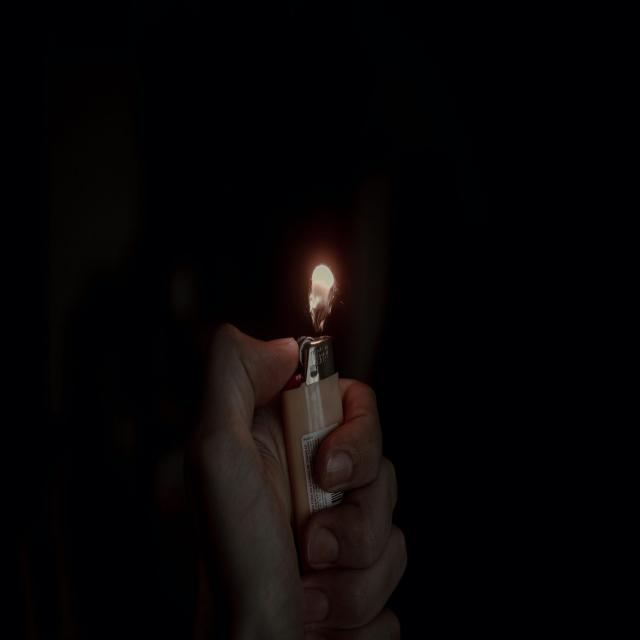fire: (308, 266, 333, 330)
